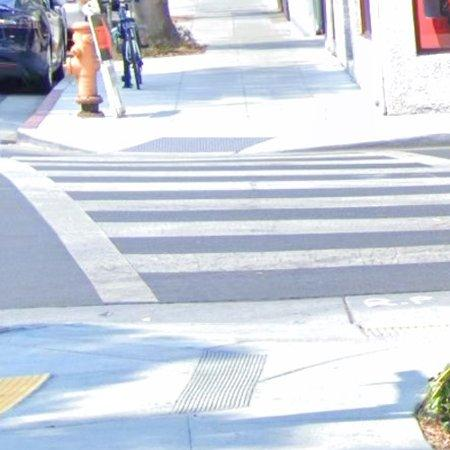crosswalks: (0, 148, 450, 323)
